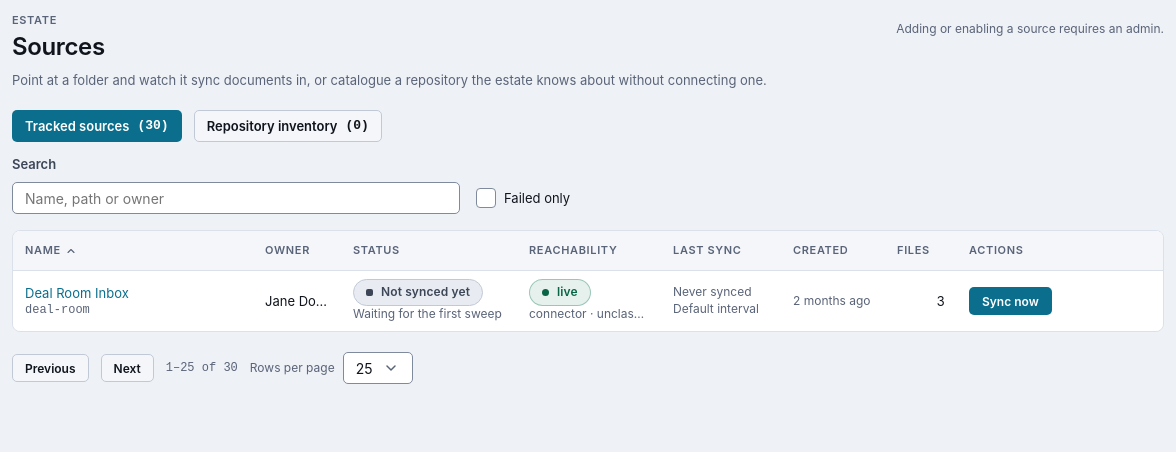
Scenario: SourcesPage › shows the tracked list total alongside Previous/Next, disabled at the ends
Check: the text "1–25 of 30" is shown, box [166,359,238,377]
Click the button "Next".
click(127, 368)  # box [100,354,154,382]
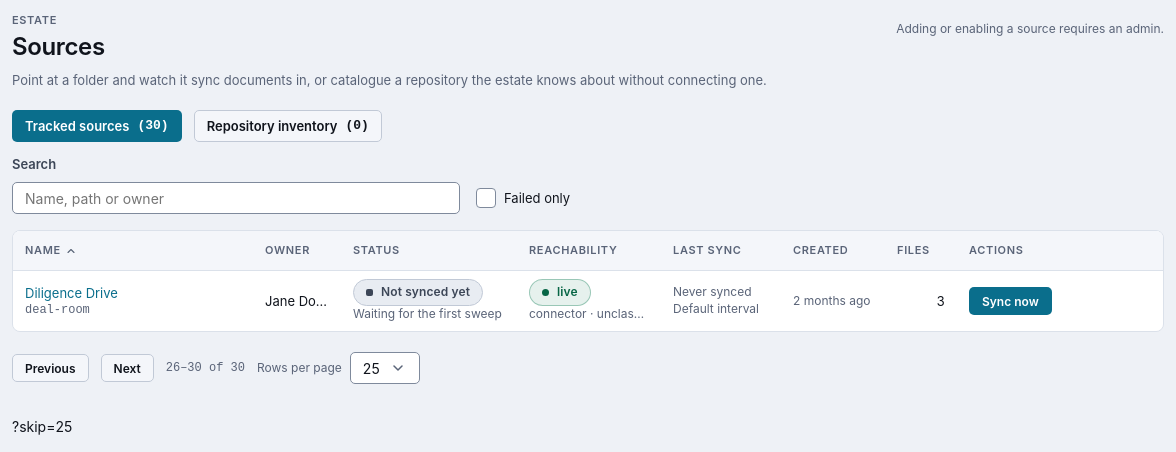
Check: the text "Diligence Drive" is shown, box [25,285,118,301]
